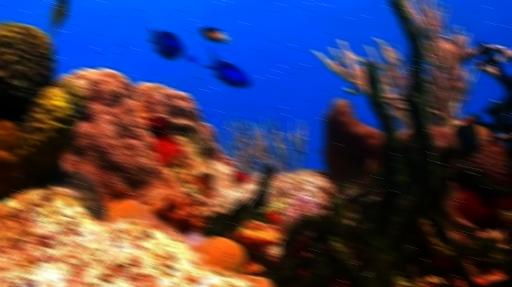Fish: (204, 47, 250, 87), (151, 28, 184, 58), (50, 0, 67, 34), (201, 26, 228, 42), (344, 87, 359, 94), (184, 54, 197, 62)
